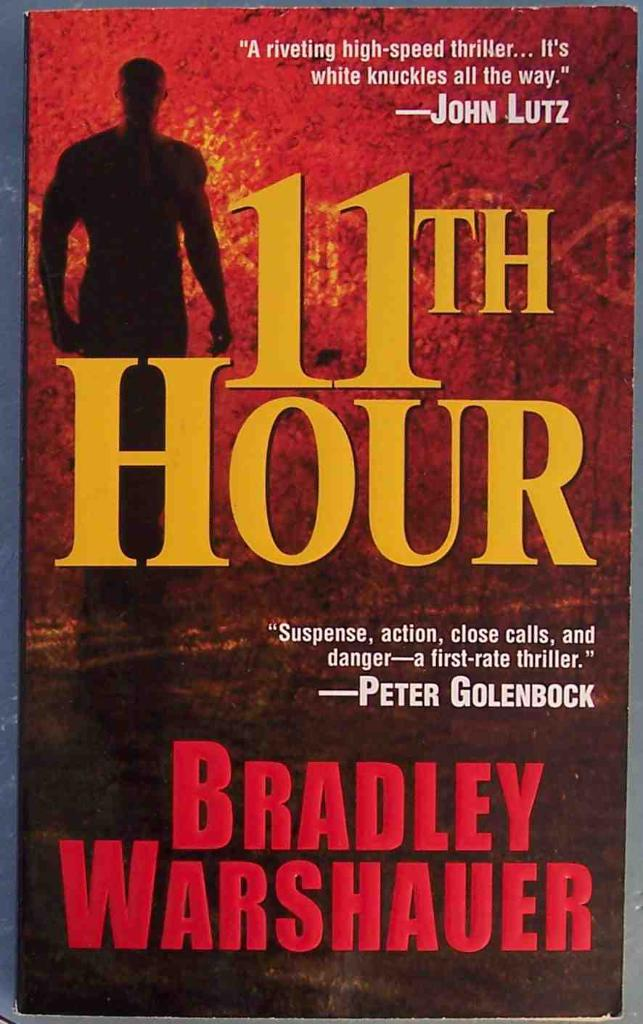Book: (22, 9, 626, 1017)
